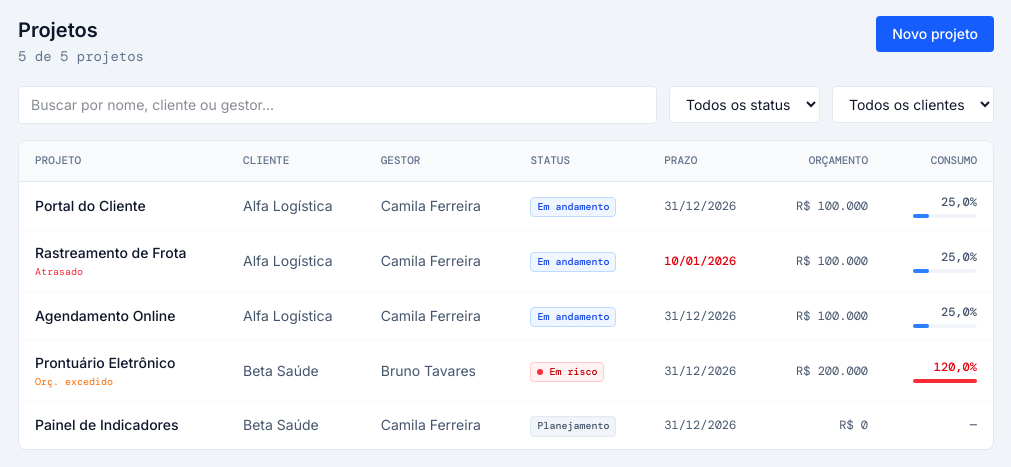
Scenario: ProjectsPage (RF04) › oferece limpar filtros quando o recorte não devolve nada
Expected: the link "Portal do Cliente" is shown, x1=35 y1=197 x2=146 y2=214
Type "projeto inexistente" into the search field named "Buscar projeto" at (338, 105), box x1=18 y1=86 x2=657 y2=124
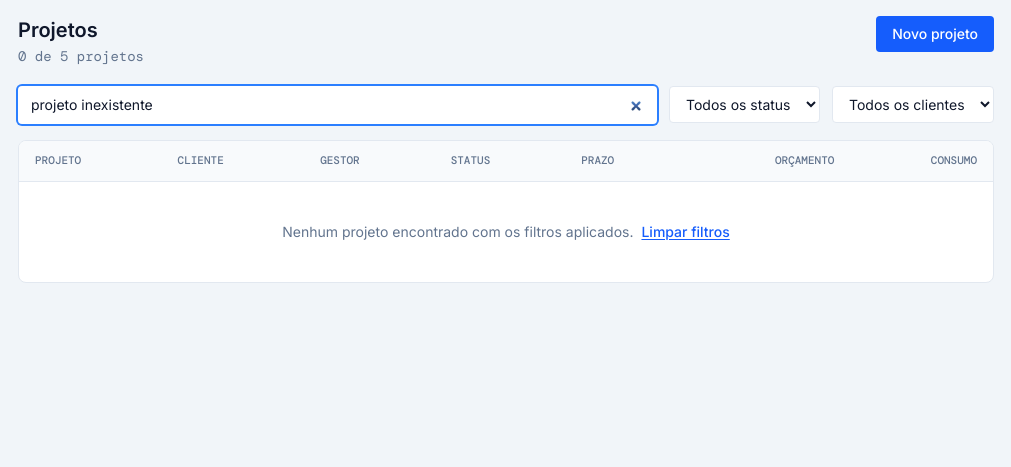
Now the text "Nenhum projeto encontrado com os filtros aplicados" is shown, box x1=282 y1=223 x2=633 y2=240
Click the button "Limpar filtros" at (686, 232), box x1=642 y1=222 x2=730 y2=242
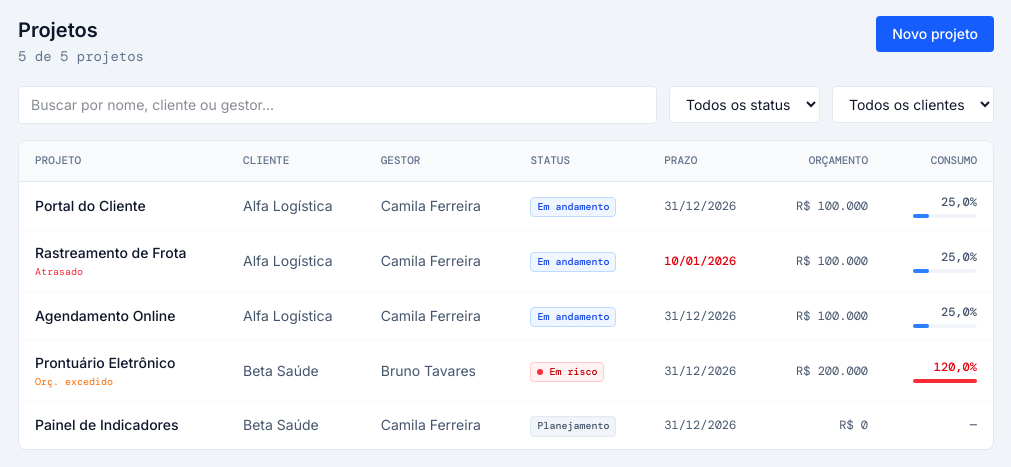
Now the text "5 de 5 projetos" is shown, box x1=18 y1=46 x2=144 y2=66
